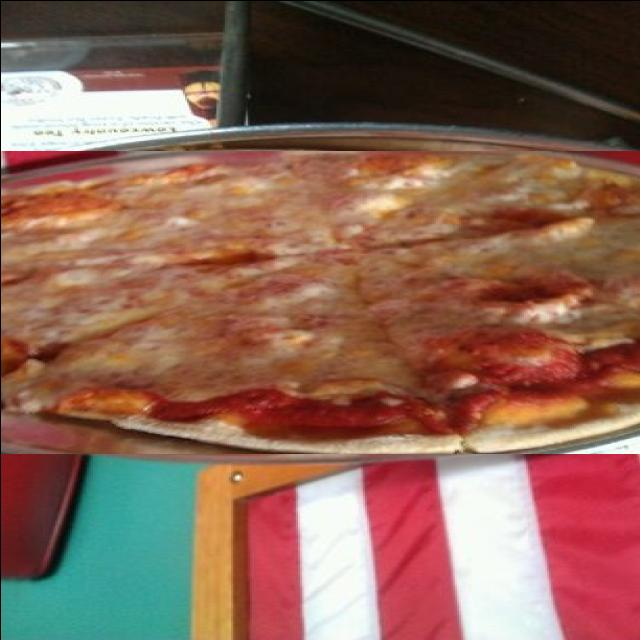pizza: (0, 150, 640, 453)
